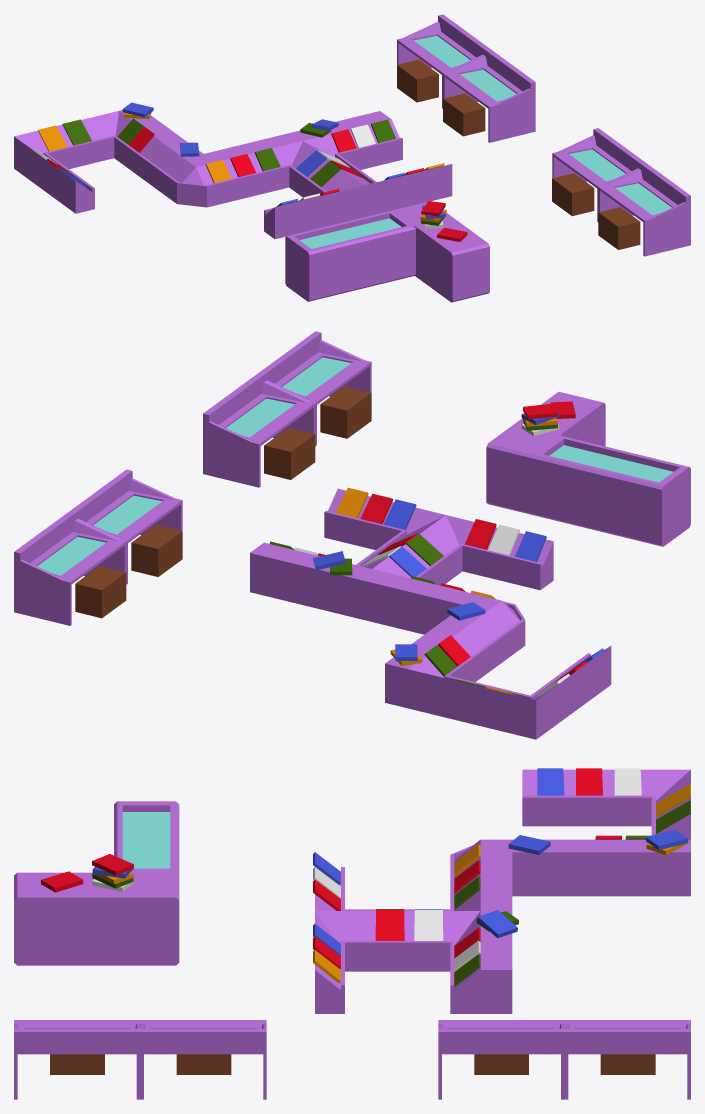
File: Book_Store_Platform.fbx
3 views of the same model, one above another, from view 1: azimuth 30°, elevation 25°; view 2: azimuth 150°, elevation 25°; view 3: azimuth 270°, elevation 25° (orthographic). The views are drawn at different scales.
Visible parts, largest first — view 1: Cube.173, Cube.161, Cube.160, Cube.205, Cube.187, Cube.162, Cube.202, Cube.189, Cube.204, Cube.201, Cube.206, Cube.203 (+2 smaller); view 2: Cube.161, Cube.173, Cube.189, Cube.162, Cube.202, Cube.205, Cube.187, Cube.160, Cube.206, Cube.204, Cube.203, Cube.201 (+6 smaller); view 3: Cube.161, Cube.189, Cube.160, Cube.173, Cube.202, Cube.205, Cube.187, Cube.162, Cube.203, Cube.201, Cube.204, Cube.206 (+12 smaller).
Boxes of the visible parts, x1,y1,x2,y2 form: Cube.173: [14, 111, 363, 239]; Cube.161: [285, 202, 489, 302]; Cube.160: [303, 119, 452, 217]; Cube.205: [598, 162, 690, 256]; Cube.187: [443, 48, 535, 142]; Cube.162: [552, 128, 644, 221]; Cube.202: [397, 14, 488, 108]; Cube.189: [119, 110, 391, 166]; Cube.204: [443, 93, 485, 136]; Cube.201: [552, 173, 594, 216]; Cube.206: [598, 207, 640, 249]; Cube.203: [397, 59, 438, 102]; Cube.161: [486, 391, 690, 546]; Cube.173: [372, 515, 611, 739]; Cube.189: [250, 542, 501, 708]; Cube.162: [203, 372, 315, 487]; Cube.202: [14, 511, 126, 625]; Cube.205: [259, 331, 371, 446]; Cube.187: [70, 469, 182, 584]; Cube.160: [324, 488, 445, 568]; Cube.206: [320, 386, 371, 438]; Cube.204: [131, 524, 182, 576]; Cube.203: [75, 566, 126, 618]; Cube.201: [264, 427, 315, 479]; Cube.161: [14, 801, 179, 965]; Cube.189: [480, 839, 690, 1013]; Cube.160: [315, 911, 480, 1013]; Cube.173: [315, 769, 690, 910]; Cube.202: [564, 1020, 690, 1099]; Cube.205: [14, 1020, 140, 1099]; Cube.187: [438, 1020, 564, 1099]; Cube.162: [140, 1020, 266, 1099]; Cube.203: [600, 1054, 655, 1074]; Cube.201: [176, 1054, 231, 1074]; Cube.204: [474, 1054, 528, 1074]; Cube.206: [50, 1054, 104, 1074].
Size of the model in its own units: 900 by 131 by 900.
